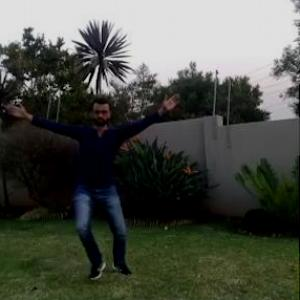takeoff: (1, 89, 178, 267)
